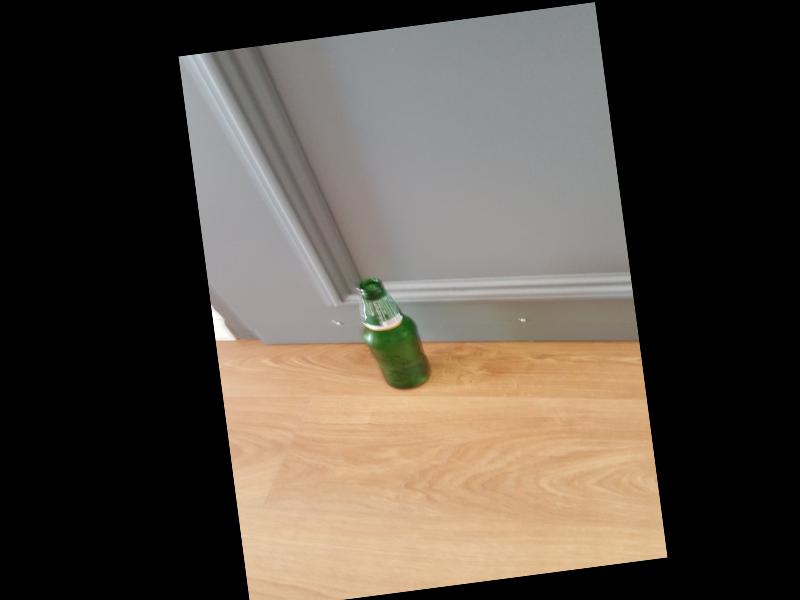Beer: (358, 274, 430, 393)
